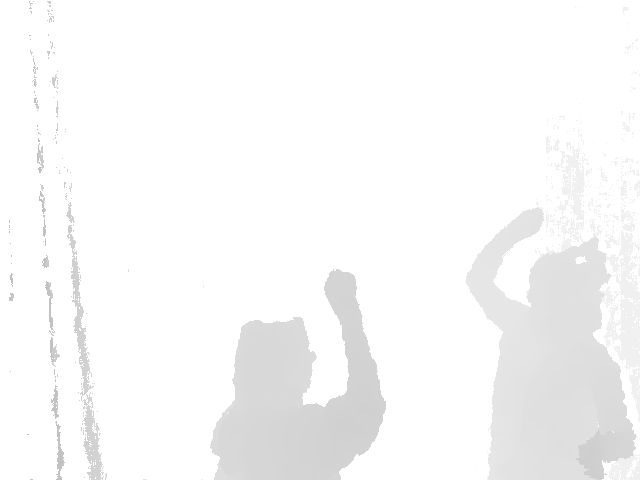hand: (324, 269, 360, 316), (504, 208, 545, 237)
head: (529, 237, 612, 337), (232, 318, 318, 408)
person: (464, 208, 636, 480), (207, 269, 387, 480)
